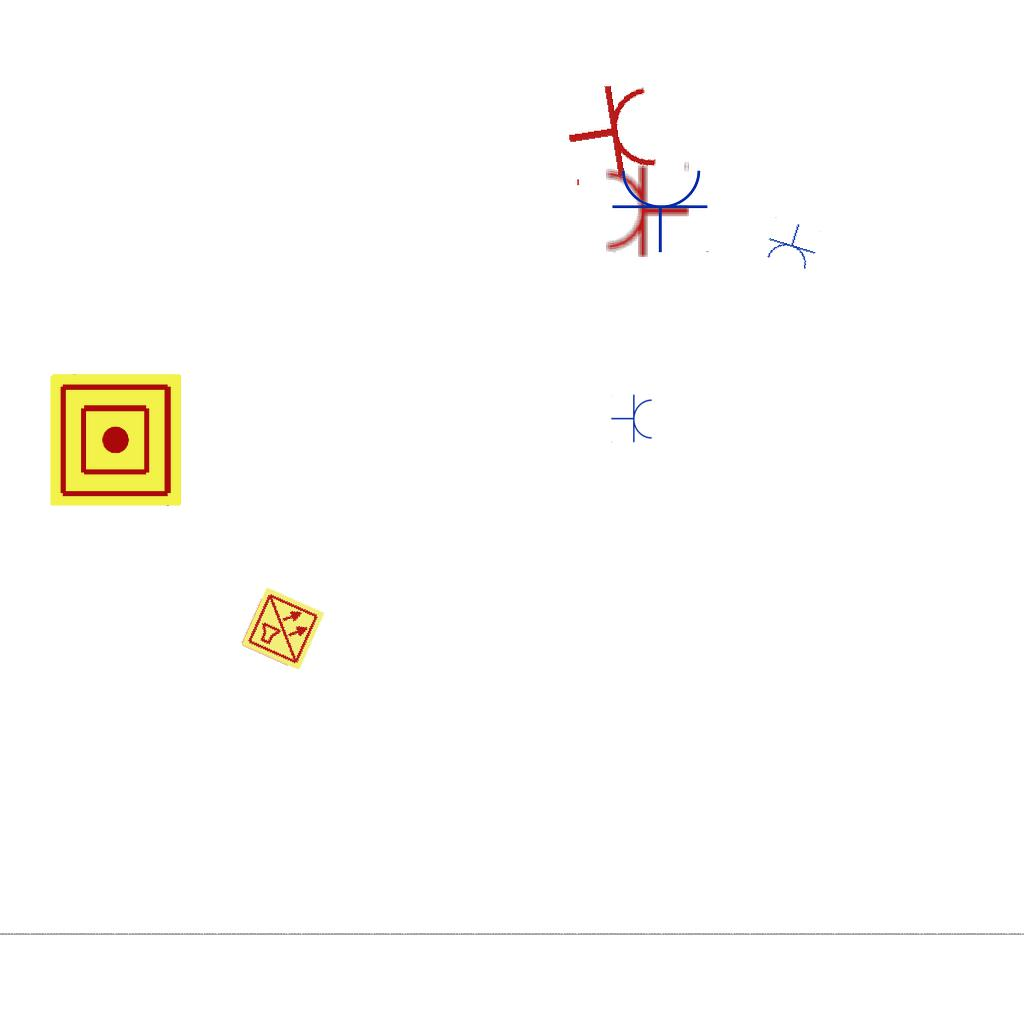NAM-Nichtautomatischer_Melder: (50, 374, 182, 506)
OKW_Multisensormelder_(Kombination_optischer_Rauch-Kahlenmonoxid_Waerme-Melder): (239, 585, 327, 673)
Schukosteckdose_einfach: (559, 77, 662, 191), (604, 159, 691, 259), (611, 166, 711, 253), (761, 216, 823, 273), (611, 394, 654, 444)
